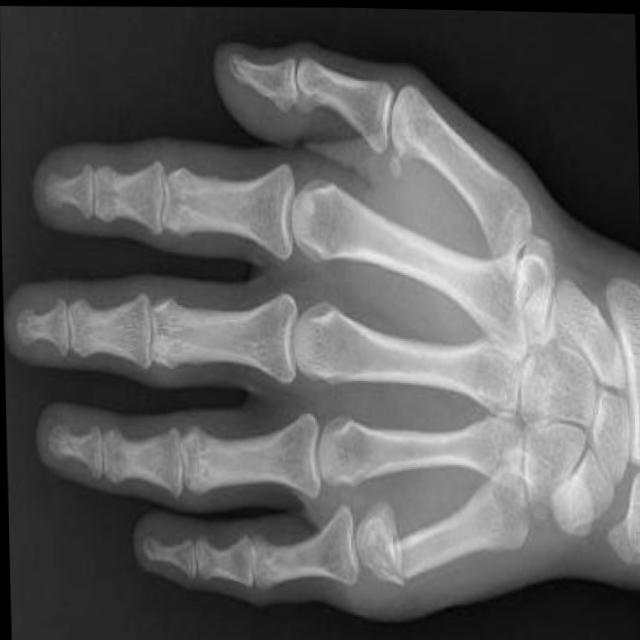fracture: (371, 486, 416, 602)
